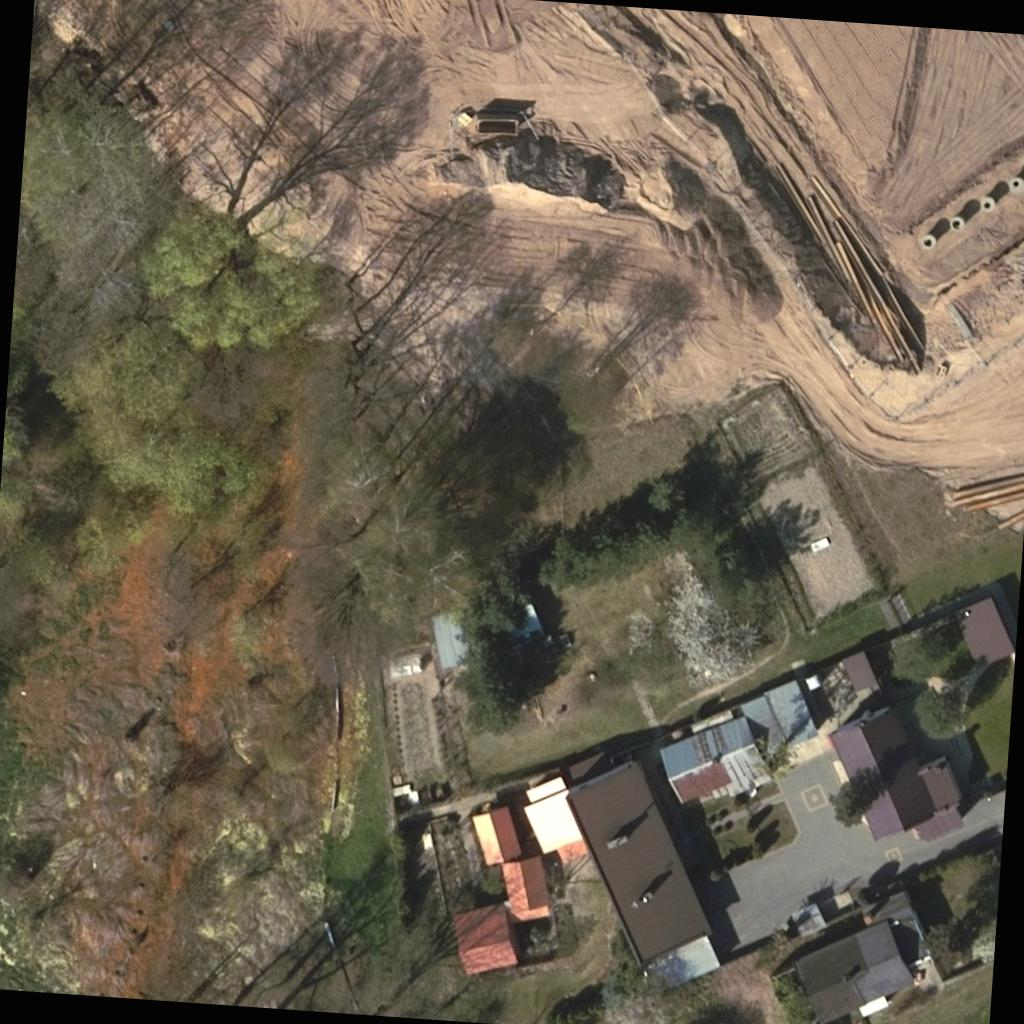ciezarowka: (452, 108, 523, 138)
